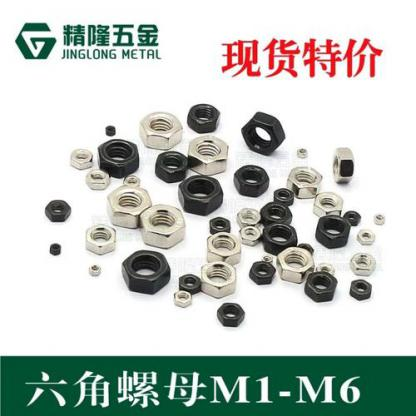FOD: (136, 200, 187, 248), (119, 247, 170, 295), (240, 111, 287, 158), (104, 184, 151, 230), (138, 108, 184, 148), (178, 175, 225, 214), (187, 132, 230, 174), (97, 138, 141, 174), (282, 164, 326, 200), (276, 245, 316, 282), (315, 213, 355, 249), (200, 260, 237, 298), (154, 148, 192, 184), (303, 267, 339, 305), (260, 220, 299, 253), (184, 102, 224, 133), (84, 222, 117, 255), (331, 144, 353, 185), (42, 195, 74, 223), (214, 300, 246, 327), (348, 250, 378, 278), (312, 189, 342, 216), (261, 201, 293, 226), (67, 146, 97, 169), (250, 260, 276, 286), (238, 204, 262, 227), (350, 278, 371, 302), (87, 167, 109, 188)
